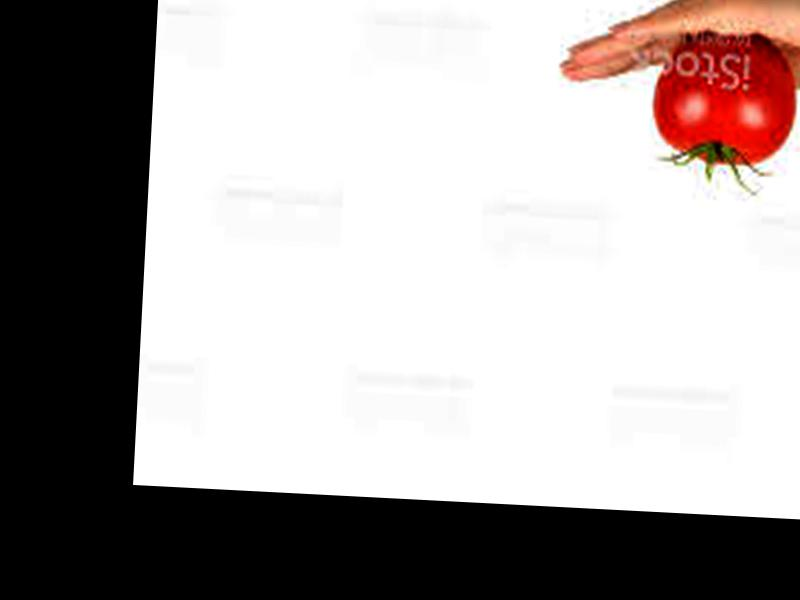Tomato: (653, 32, 799, 170)
